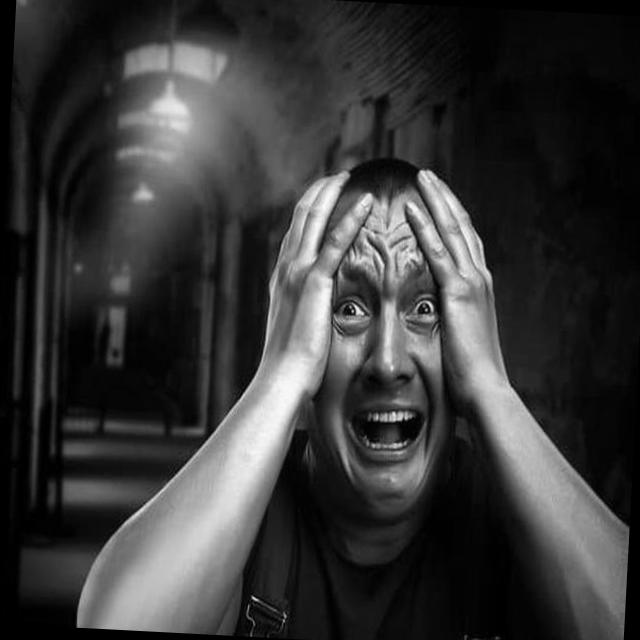Fear: (302, 190, 458, 525)
